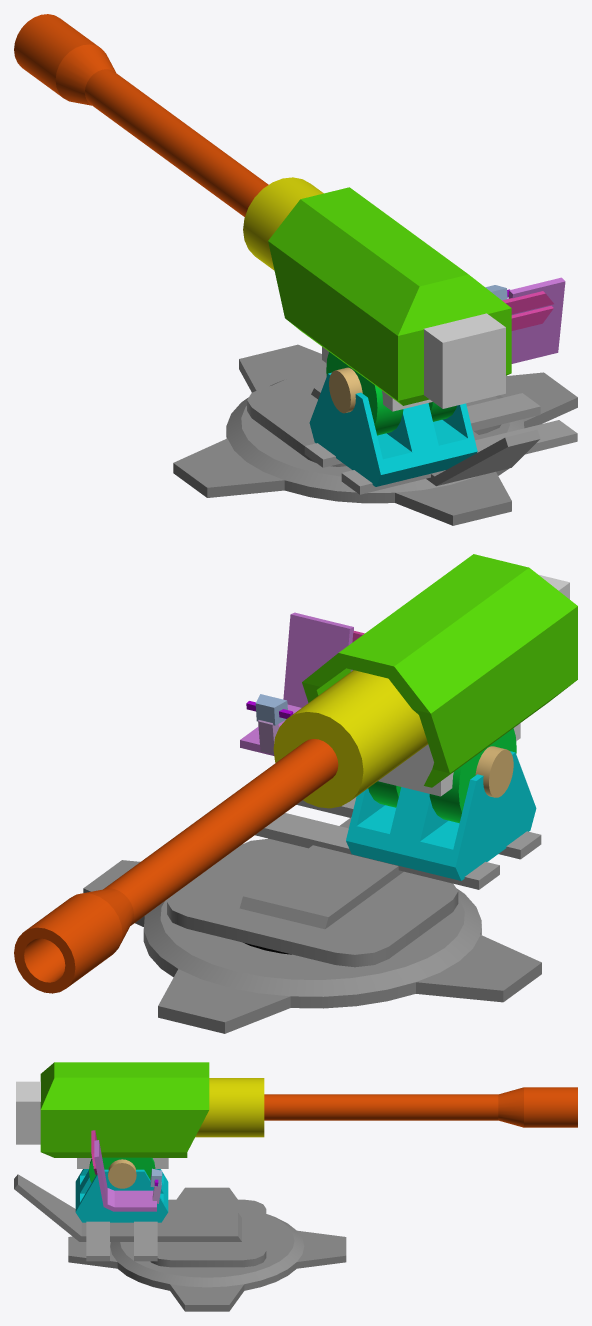
File: massive_cannon.glb
3 renders of one model, top to bottom at view 1: azimuth 30°, elevation 25°; view 2: azimuth 150°, elevation 25°; view 3: azimuth 270°, elevation 25°, orthographic. The views are drawn at different scales.
Visible parts, largest first — view 1: Cube.002, Cylinder, Cube.013, Cylinder.003, Cube.003, Cylinder.004, Cube, Cylinder.002, Cube.008, Cube.001, Cube.007, Cube.006 (+3 smaller); view 2: Cube.002, Cylinder, Cube, Cube.013, Cylinder.003, Cylinder.002, Cylinder.004, Cube.001, Cube.008, Cube.007, Cylinder.005, Cube.005 (+3 smaller); view 3: Cube.002, Cylinder, Cylinder.003, Cube, Cube.001, Cylinder.002, Cylinder.004, Cube.013, Cube.003, Cube.008, Cube.006, Cube.007 (+2 smaller).
Boxes of the visible parts, left/top/right/bottom form: Cube.002: left=268, top=187, right=511, bottom=405; Cylinder: left=173, top=344, right=577, bottom=525; Cube.013: left=309, top=372, right=477, bottom=486; Cylinder.003: left=85, top=69, right=268, bottom=216; Cube.003: left=423, top=313, right=505, bottom=408; Cylinder.004: left=14, top=14, right=115, bottom=105; Cube: left=247, top=372, right=501, bottom=466; Cylinder.002: left=243, top=177, right=323, bottom=270; Cube.008: left=508, top=277, right=565, bottom=363; Cube.001: left=311, top=386, right=540, bottom=486; Cube.007: left=304, top=393, right=540, bottom=467; Cube.006: left=341, top=420, right=577, bottom=494; Cube.002: left=302, top=554, right=577, bottom=787; Cylinder: left=83, top=860, right=541, bottom=1033; Cube: left=167, top=838, right=458, bottom=967; Cube.013: left=346, top=751, right=536, bottom=880; Cylinder.003: left=103, top=739, right=338, bottom=925; Cylinder.002: left=273, top=670, right=427, bottom=808; Cylinder.004: left=14, top=888, right=133, bottom=993; Cube.001: left=239, top=817, right=403, bottom=929; Cube.008: left=240, top=612, right=353, bottom=755; Cube.007: left=255, top=813, right=499, bottom=889; Cylinder.005: left=368, top=728, right=516, bottom=823; Cube.005: left=350, top=669, right=520, bottom=796; Cube.002: left=40, top=1062, right=209, bottom=1157; Cylinder: left=68, top=1187, right=346, bottom=1311; Cylinder.003: left=264, top=1094, right=498, bottom=1120; Cube: left=150, top=1199, right=266, bottom=1267; Cube.001: left=14, top=1174, right=241, bottom=1241; Cylinder.002: left=195, top=1078, right=264, bottom=1137; Cylinder.004: left=498, top=1087, right=577, bottom=1127; Cube.013: left=75, top=1169, right=168, bottom=1222; Cube.003: left=16, top=1081, right=40, bottom=1144; Cube.008: left=94, top=1140, right=156, bottom=1211; Cube.006: left=86, top=1221, right=109, bottom=1261; Cube.007: left=134, top=1221, right=157, bottom=1261.
Size of the model in its own units: 4.58 by 3.04 by 9.28.
